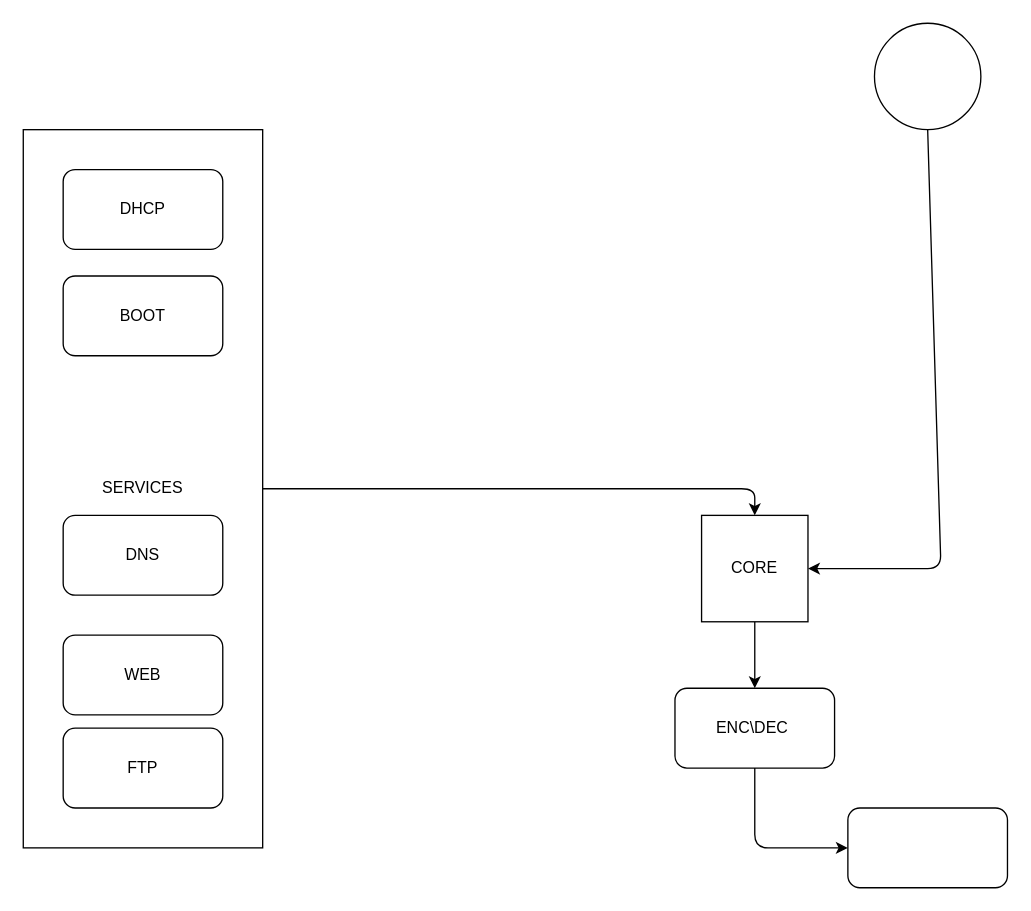
This 1031x911 diagram has some shape labels left out. Here are the shapes that lost their labels. From the top down, the centre of each, then its label:
At (927,76): "INTERNET".
At (927,847): "BROADCAST".
